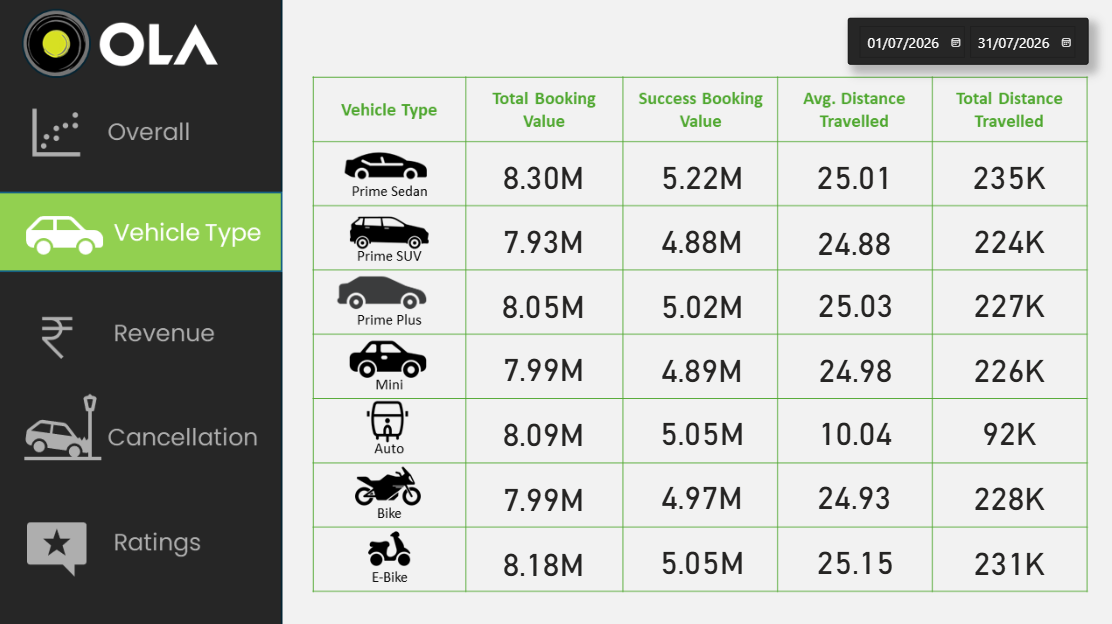

The dashboard page shown, as its layout file describes it:
{"tool":"powerbi","page":{"name":"Vehicle Type","canvas":[1280,720],"ordinal":1},"visuals":[{"type":"actionButton","box":[0,338.7,322.7,92],"z":0},{"type":"actionButton","box":[0,445.4,322.7,92],"z":1000},{"type":"actionButton","box":[0,577.9,322.7,92],"z":2000},{"type":"actionButton","box":[1.2,108,322.7,92],"z":3000},{"type":"card","fields":{"Values":["Sum(July.Booking_Value)"]},"box":[545.8,177.7,153.1,48.5],"z":4000},{"type":"card","fields":{"Values":["Sum(July.Booking_Value)"]},"box":[546.2,250,152.5,48.8],"z":5000},{"type":"card","fields":{"Values":["Sum(July.Booking_Value)"]},"box":[546.4,323.6,152.7,49.1],"z":6000},{"type":"card","fields":{"Values":["Sum(July.Booking_Value)"]},"box":[545.5,396.4,152.7,49.1],"z":7000},{"type":"card","fields":{"Values":["Sum(July.Booking_Value)"]},"box":[546.4,470,152.7,49.1],"z":8000},{"type":"card","fields":{"Values":["Sum(July.Booking_Value)"]},"box":[546.4,543.6,152.7,49.1],"z":9000},{"type":"card","fields":{"Values":["Sum(July.Booking_Value)"]},"box":[545.5,618.2,152.7,49.1],"z":10000},{"type":"card","fields":{"Values":["Sum(July.Booking_Value)"]},"box":[726.7,177.8,152.2,48.9],"z":11000},{"type":"card","fields":{"Values":["Sum(July.Booking_Value)"]},"box":[726.7,250,152.2,48.9],"z":12000},{"type":"card","fields":{"Values":["Sum(July.Booking_Value)"]},"box":[726.7,324.4,152.2,48.9],"z":13000},{"type":"card","fields":{"Values":["Sum(July.Booking_Value)"]},"box":[726.7,396.7,152.2,48.9],"z":14000},{"type":"card","fields":{"Values":["Sum(July.Booking_Value)"]},"box":[726.7,470,152.2,48.9],"z":15000},{"type":"card","fields":{"Values":["Sum(July.Booking_Value)"]},"box":[726.7,543.3,152.2,48.9],"z":16000},{"type":"card","fields":{"Values":["Sum(July.Booking_Value)"]},"box":[726.7,617.8,152.2,48.9],"z":17000},{"type":"card","fields":{"Values":["Avg(July.Ride_Distance)"]},"box":[901.5,177.7,152.3,49.2],"z":18000},{"type":"card","fields":{"Values":["Avg(July.Ride_Distance)"]},"box":[901.1,252.2,152.2,48.9],"z":19000},{"type":"card","fields":{"Values":["Avg(July.Ride_Distance)"]},"box":[902.2,323.3,152.2,48.9],"z":20000},{"type":"card","fields":{"Values":["Avg(July.Ride_Distance)"]},"box":[902.2,396.7,152.2,48.9],"z":21000},{"type":"card","fields":{"Values":["Avg(July.Ride_Distance)"]},"box":[902.2,470,152.2,48.9],"z":22000},{"type":"card","fields":{"Values":["Avg(July.Ride_Distance)"]},"box":[901.1,543.3,152.2,48.9],"z":23000},{"type":"card","fields":{"Values":["Avg(July.Ride_Distance)"]},"box":[902.2,617.8,152.2,48.9],"z":24000},{"type":"card","fields":{"Values":["Sum(July.Ride_Distance)"]},"box":[1078.9,177.8,152.2,48.9],"z":25000},{"type":"card","fields":{"Values":["Sum(July.Ride_Distance)"]},"box":[1078.9,250,152.2,48.9],"z":26000},{"type":"card","fields":{"Values":["Sum(July.Ride_Distance)"]},"box":[1078.9,323.3,152.2,48.9],"z":27000},{"type":"card","fields":{"Values":["Sum(July.Ride_Distance)"]},"box":[1078.9,396.7,152.2,48.9],"z":28000},{"type":"card","fields":{"Values":["Sum(July.Ride_Distance)"]},"box":[1078.9,470,152.2,48.9],"z":29000},{"type":"card","fields":{"Values":["Sum(July.Ride_Distance)"]},"box":[1078.9,544.4,152.2,48.9],"z":30000},{"type":"card","fields":{"Values":["Sum(July.Ride_Distance)"]},"box":[1078.9,618.9,152.2,48.9],"z":31000},{"type":"slicer","title":"Date","fields":{"Values":["July.Date"]},"box":[969.6,22.1,275,53.3],"z":32000}]}

Visuals, with their boxes on the page's 1280x720 design canvas (x1, y1, x2, y2). These are canvas units, not pixel positions in the 1112x624 screenshot, which may show the page scaled, cropped or inside an application window:
actionButton: crop(0, 339, 323, 431)
actionButton: crop(0, 445, 323, 537)
actionButton: crop(0, 578, 323, 670)
actionButton: crop(1, 108, 324, 200)
card - Sum(July.Booking_Value): crop(546, 178, 699, 226)
card - Sum(July.Booking_Value): crop(546, 250, 699, 299)
card - Sum(July.Booking_Value): crop(546, 324, 699, 373)
card - Sum(July.Booking_Value): crop(546, 396, 698, 446)
card - Sum(July.Booking_Value): crop(546, 470, 699, 519)
card - Sum(July.Booking_Value): crop(546, 544, 699, 593)
card - Sum(July.Booking_Value): crop(546, 618, 698, 667)
card - Sum(July.Booking_Value): crop(727, 178, 879, 227)
card - Sum(July.Booking_Value): crop(727, 250, 879, 299)
card - Sum(July.Booking_Value): crop(727, 324, 879, 373)
card - Sum(July.Booking_Value): crop(727, 397, 879, 446)
card - Sum(July.Booking_Value): crop(727, 470, 879, 519)
card - Sum(July.Booking_Value): crop(727, 543, 879, 592)
card - Sum(July.Booking_Value): crop(727, 618, 879, 667)
card - Avg(July.Ride_Distance): crop(902, 178, 1054, 227)
card - Avg(July.Ride_Distance): crop(901, 252, 1053, 301)
card - Avg(July.Ride_Distance): crop(902, 323, 1054, 372)
card - Avg(July.Ride_Distance): crop(902, 397, 1054, 446)
card - Avg(July.Ride_Distance): crop(902, 470, 1054, 519)
card - Avg(July.Ride_Distance): crop(901, 543, 1053, 592)
card - Avg(July.Ride_Distance): crop(902, 618, 1054, 667)
card - Sum(July.Ride_Distance): crop(1079, 178, 1231, 227)
card - Sum(July.Ride_Distance): crop(1079, 250, 1231, 299)
card - Sum(July.Ride_Distance): crop(1079, 323, 1231, 372)
card - Sum(July.Ride_Distance): crop(1079, 397, 1231, 446)
card - Sum(July.Ride_Distance): crop(1079, 470, 1231, 519)
card - Sum(July.Ride_Distance): crop(1079, 544, 1231, 593)
card - Sum(July.Ride_Distance): crop(1079, 619, 1231, 668)
"Date" slicer: crop(970, 22, 1245, 75)
